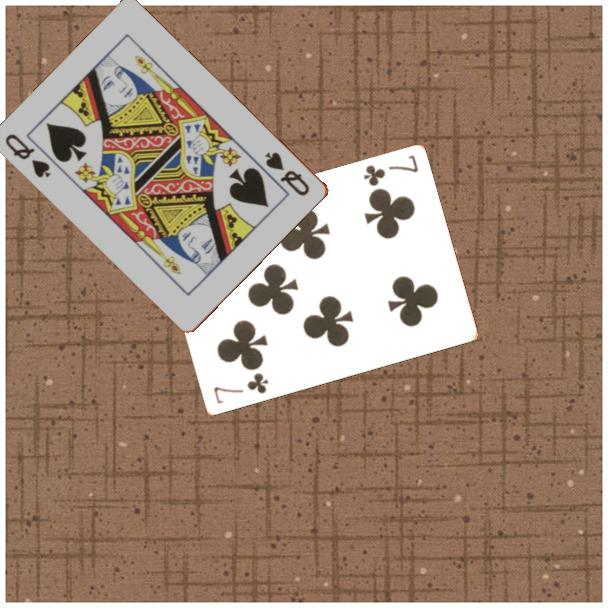c07: (210, 370, 271, 407), (360, 152, 421, 189)
s12: (2, 130, 55, 181), (262, 148, 313, 199)
